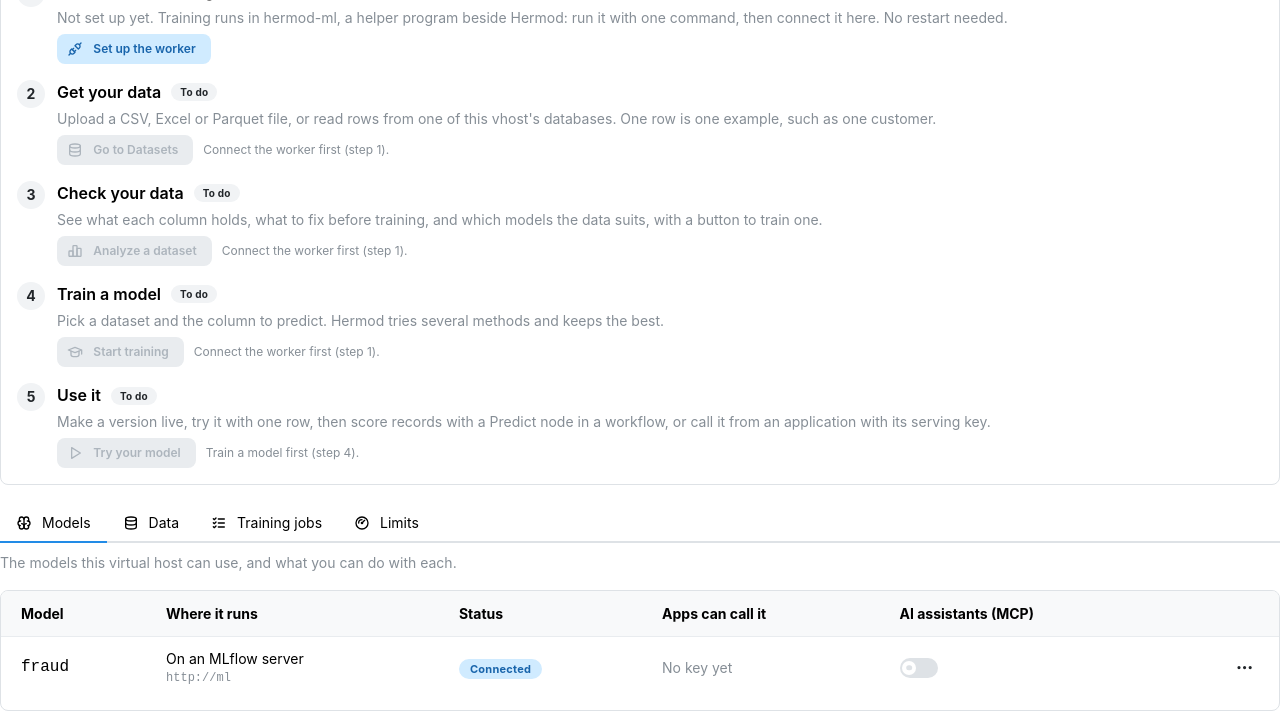
it: Models page › makes a serving key and shows it once
(page scrolled)
Step 1. Click the button named "More actions for fraud" → x=1245, y=667, box [1231,653,1259,681]
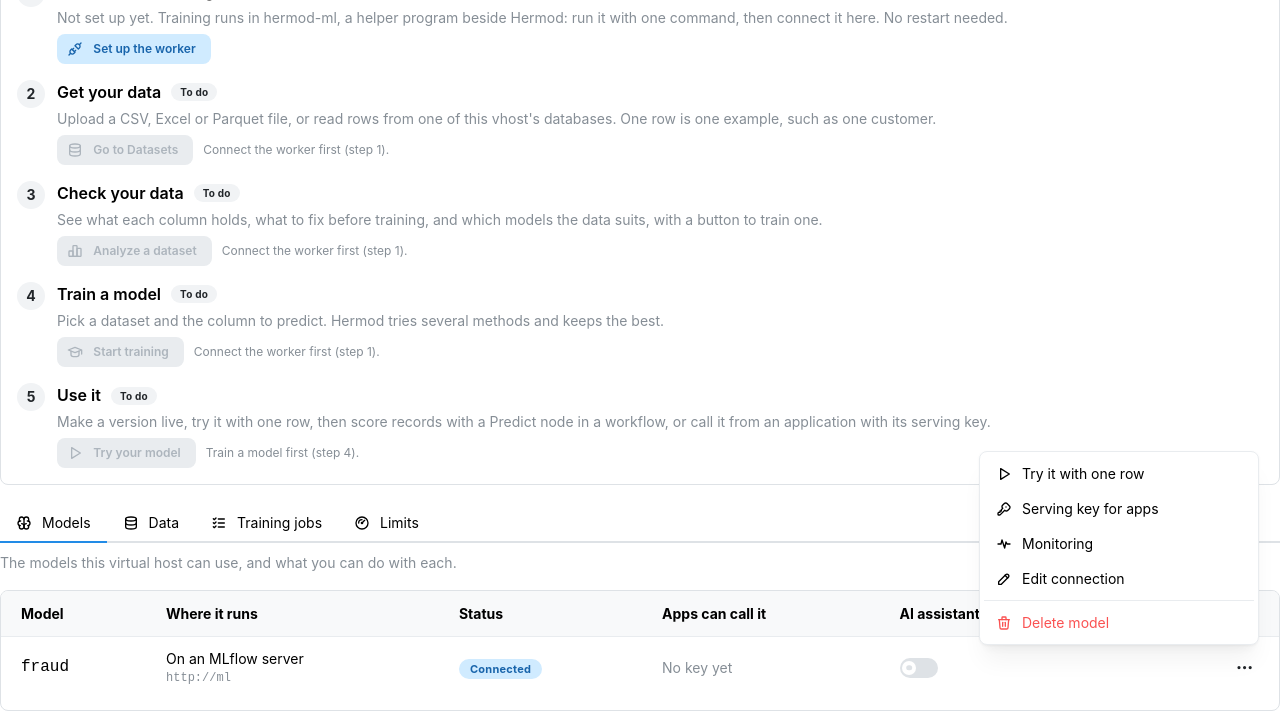
Step 2. Click the menu item "Serving key for apps" → x=1119, y=509, box [984,491,1254,526]
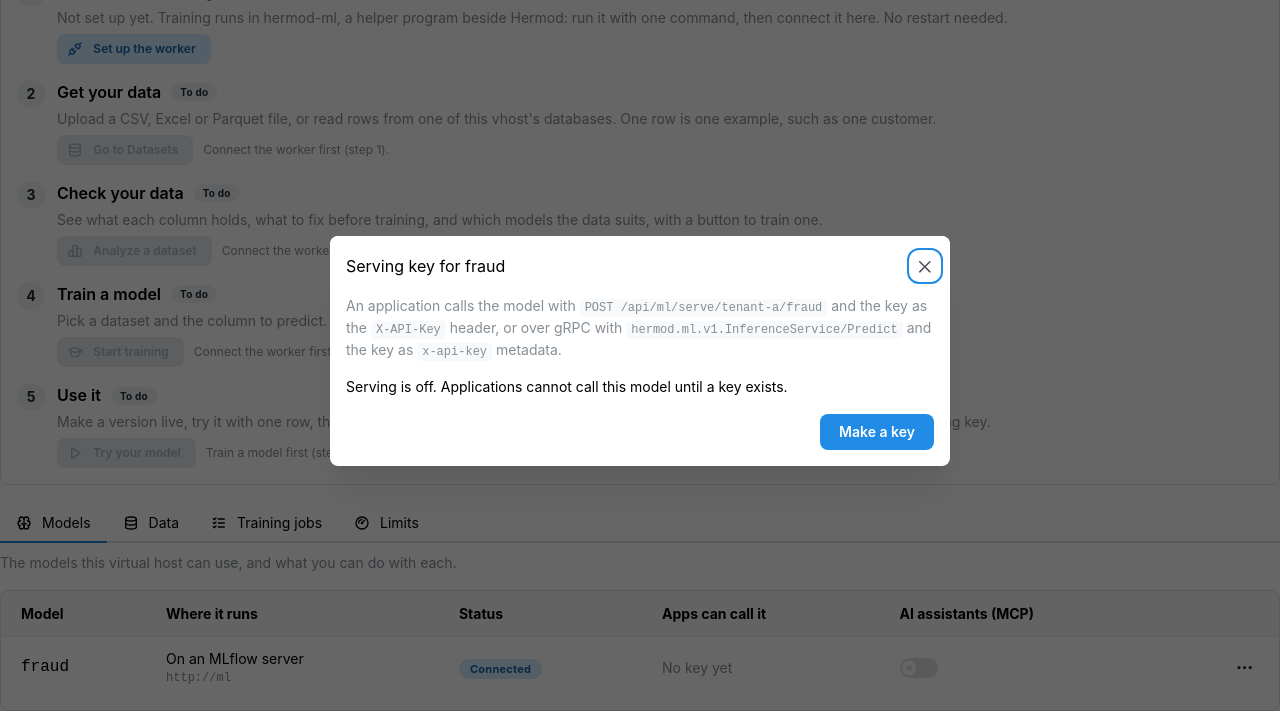
Step 3. Click the button "Make a key" → x=877, y=432, box [820,414,934,450]
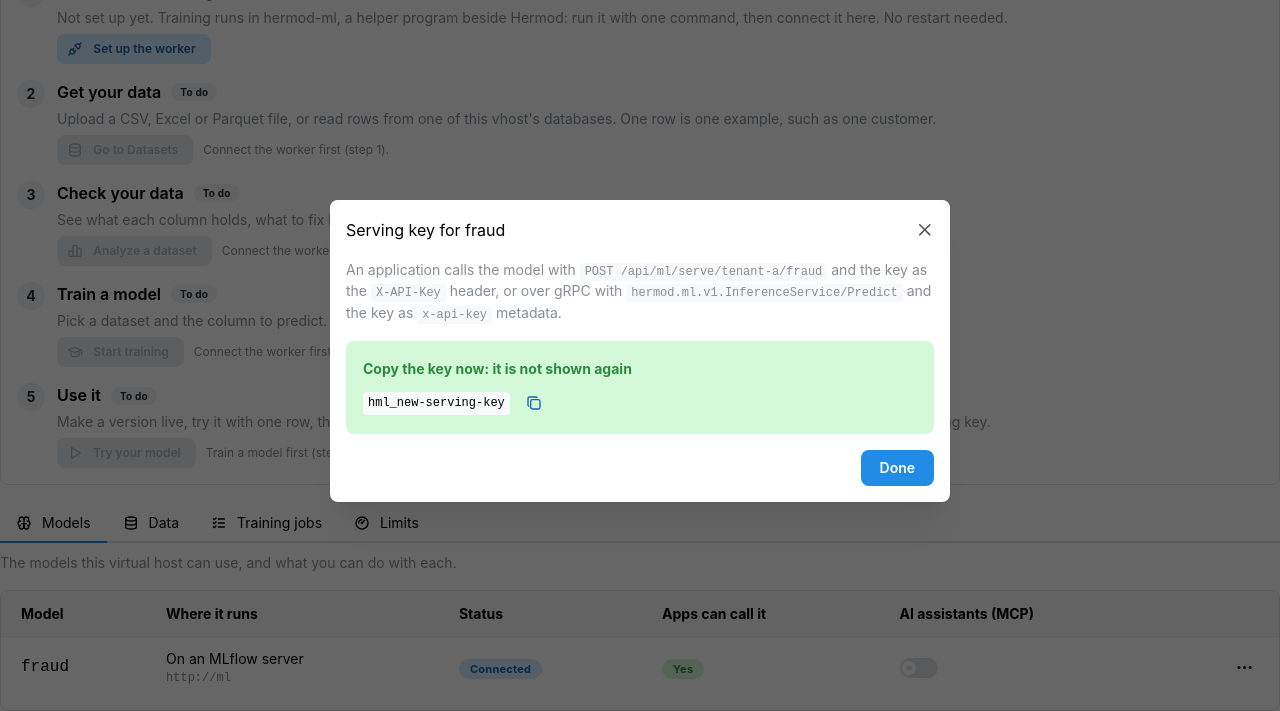
expect the text "POST /api/ml/serve/tenant-a/fraud" is shown: met, box [580,263,827,281]
expect the text "hml_new-serving-key" is shown: met, box [363,392,510,414]
